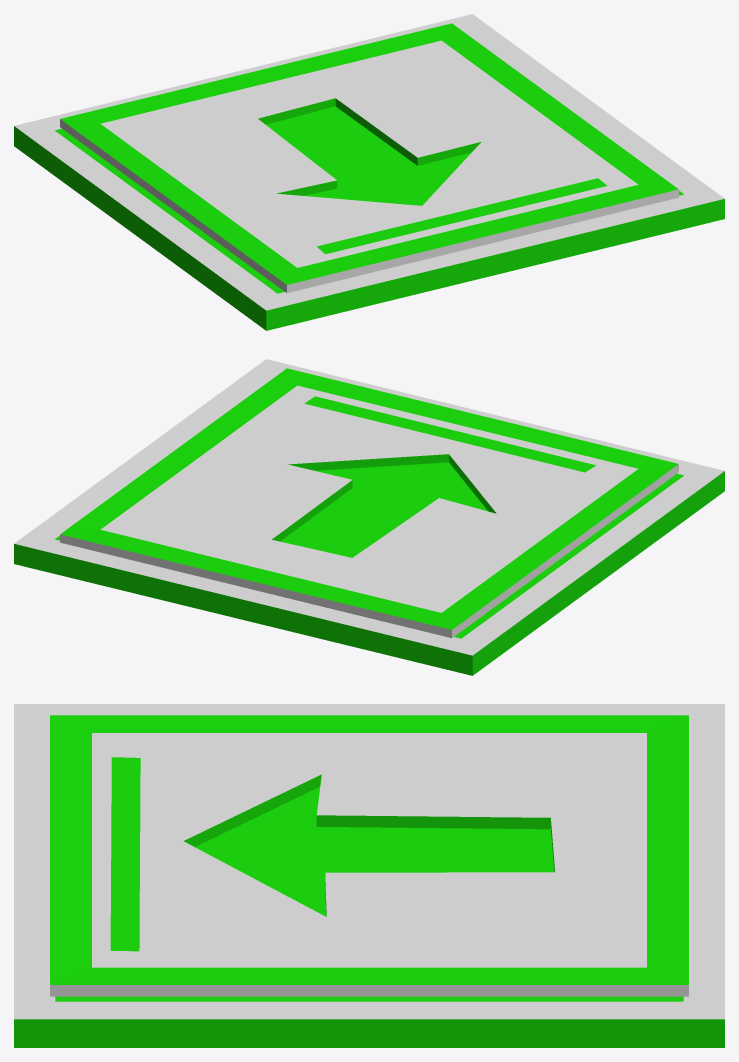
Rendered from sign.fbx.
3 renders of one model, top to bottom at view 1: azimuth 30°, elevation 25°; view 2: azimuth 150°, elevation 25°; view 3: azimuth 270°, elevation 25°, orthographic. The views are drawn at different scales.
Parts seen in each view (by area): view 1: Cube; view 2: Cube; view 3: Cube.
Boxes of the visible parts, x1,y1,x2,y2 form: Cube: (14, 14, 724, 330); Cube: (14, 359, 724, 675); Cube: (14, 704, 724, 1047).
Size of the model in its own units: 269 by 15.95 by 256.
